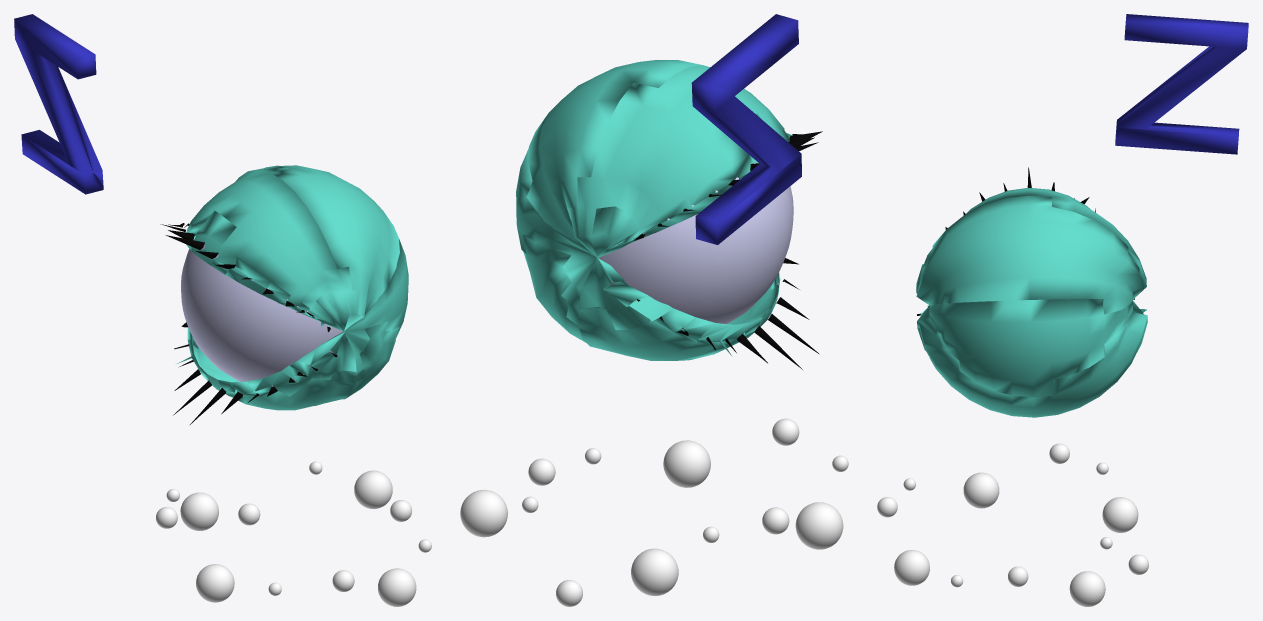
The model's file is Eye_Am_SLEEP_Adult.fbx.
The picture shows the model from 3 angles, left to right: view 1: azimuth 30°, elevation 25°; view 2: azimuth 150°, elevation 25°; view 3: azimuth 270°, elevation 25°; orthographic projection. The views are drawn at different scales.
Visible parts, largest first — view 1: Eyelid, Eye.001, ZZ1, Sphere009.003; view 2: Eyelid, Eye.001, ZZ1, Sphere009.003; view 3: Eyelid, ZZ1, Sphere009.003.
Boxes of the visible parts, <box> form: Eyelid: <box>160,165,408,424</box>; Eye.001: <box>181,237,343,386</box>; ZZ1: <box>14,14,103,194</box>; Sphere009.003: <box>156,461,431,606</box>; Eyelid: <box>516,60,822,369</box>; Eye.001: <box>598,162,793,329</box>; ZZ1: <box>691,14,801,244</box>; Sphere009.003: <box>460,418,848,606</box>; Eyelid: <box>916,167,1147,417</box>; ZZ1: <box>1115,14,1248,154</box>; Sphere009.003: <box>877,443,1148,606</box>.
Size of the model in its own units: 99.61 by 167 by 118.
